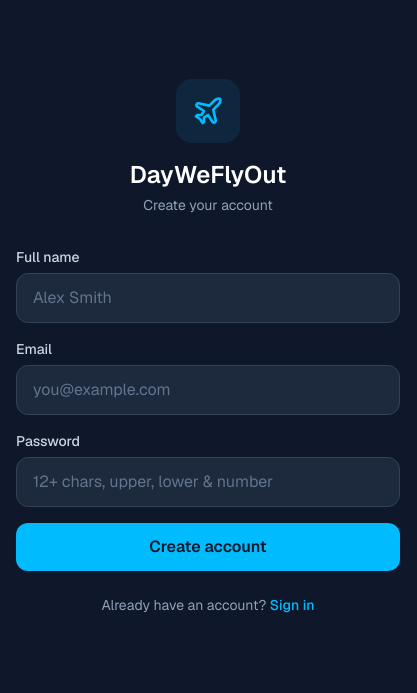
Test: SignupPage › shows validation error for missing uppercase
The image size is (417, 693).
Type "Test User" into the field labelled "Full name".
click(208, 298); type("Test User")  # box [16, 273, 400, 323]
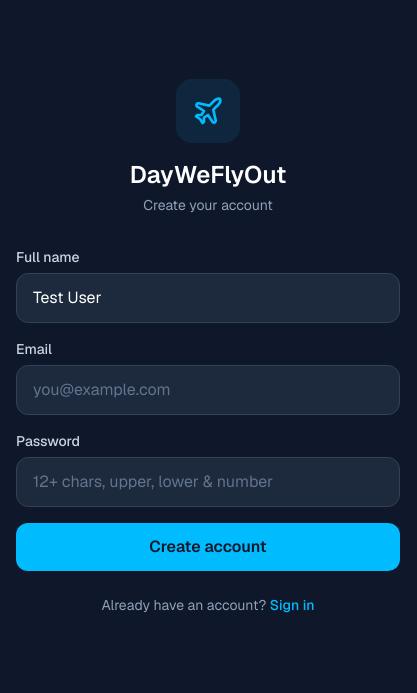
Type "test@example.com" into the field labelled "Email".
click(208, 390); type("test@example.com")  # box [16, 365, 400, 415]
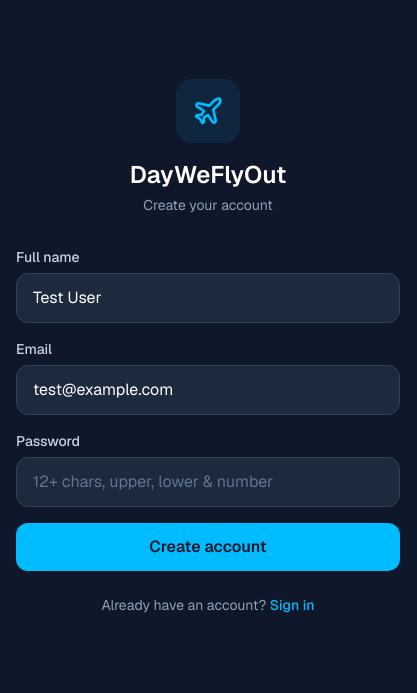
Type "alllowercase123" into the password field labelled "Password".
click(208, 482); type("alllowercase123")  # box [16, 457, 400, 507]
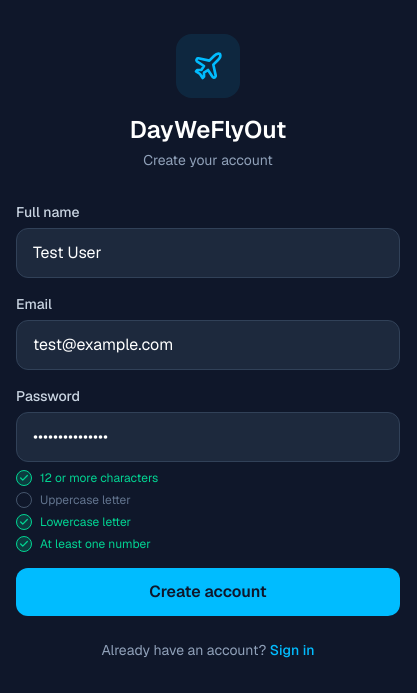
Submit the form named "create account", box [16, 202, 400, 616]
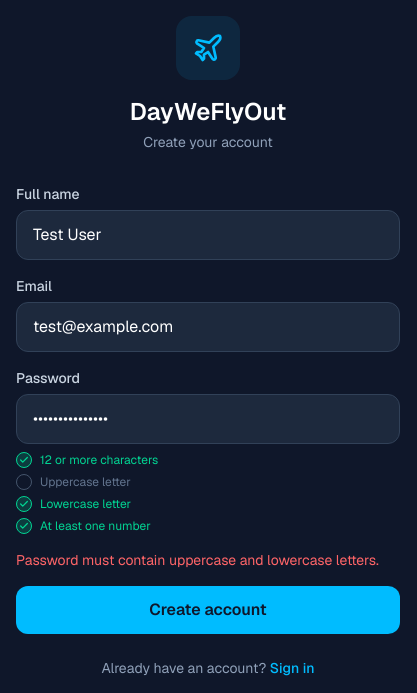
Check: the text "Password must contain uppercase and lowercase letters." is shown, box [16, 550, 400, 570]
